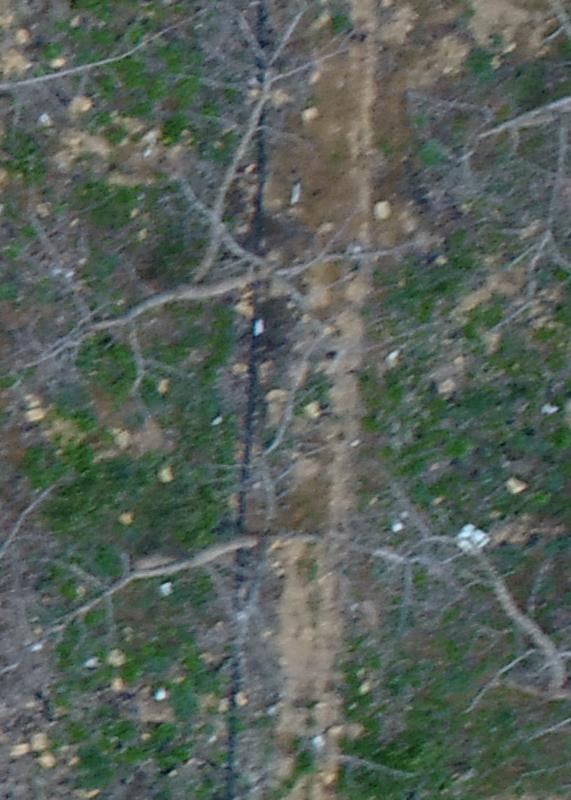apple: (39, 412, 561, 743), (23, 10, 425, 431)
